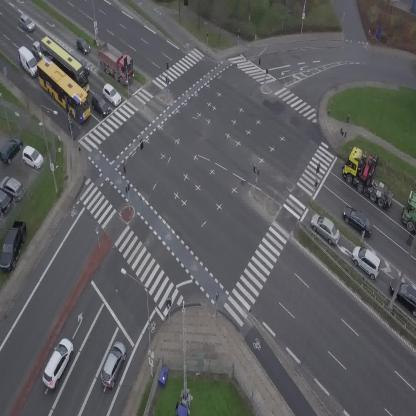bus: (29, 54, 100, 124), (33, 34, 99, 93)
car: (37, 335, 78, 390), (96, 339, 131, 390), (346, 243, 387, 280), (337, 202, 378, 239), (306, 210, 345, 247), (98, 81, 124, 108), (87, 92, 112, 119), (71, 35, 93, 57), (16, 13, 38, 33), (72, 52, 91, 69), (31, 41, 40, 58)
lorry: (334, 142, 409, 211), (88, 37, 142, 88), (12, 43, 43, 80), (402, 193, 416, 232)
